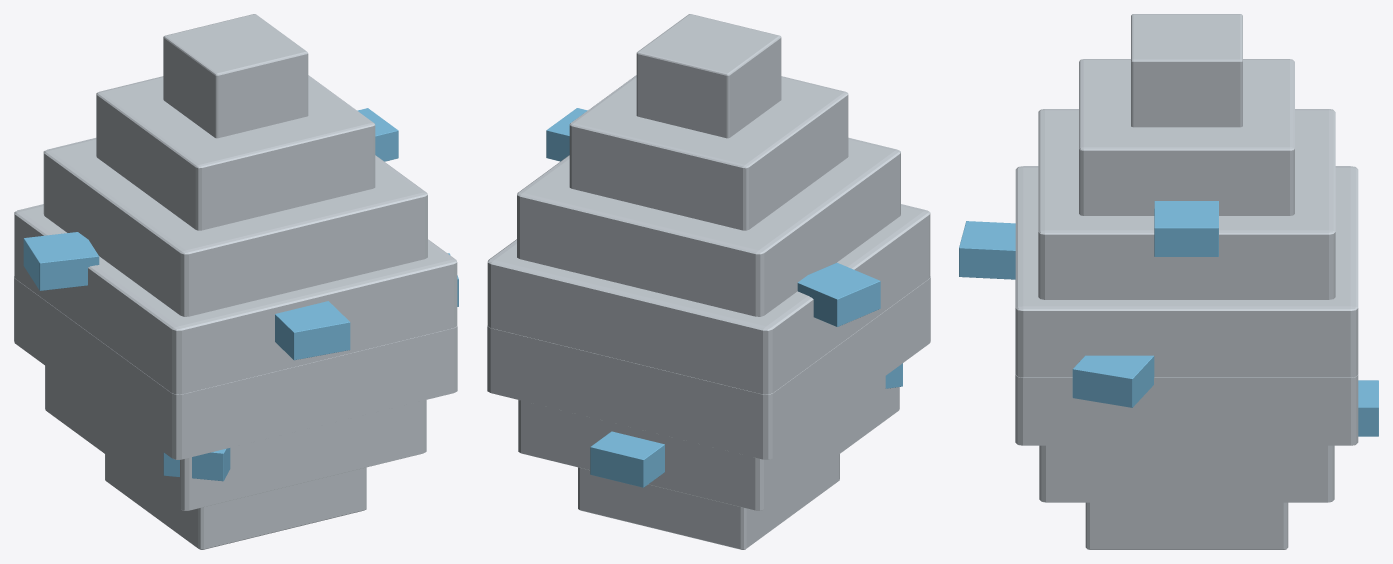
File: egg-snow.glb
3 renders of one model, left to right at view 1: azimuth 30°, elevation 25°; view 2: azimuth 150°, elevation 25°; view 3: azimuth 270°, elevation 25°, orthographic. The views are drawn at different scales.
Visible parts, largest first — view 1: body; view 2: body; view 3: body.
Part boxes in pixels (x1,y1,x2,y2): body: (14, 14, 458, 549); body: (487, 14, 930, 549); body: (959, 14, 1378, 549).
Bounding box in the file's own units: 0.8607 × 1 × 0.8075.
